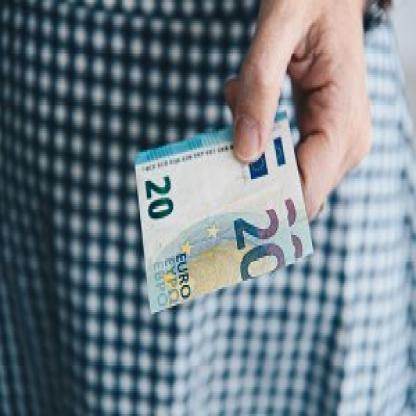billete: (132, 104, 315, 316)
